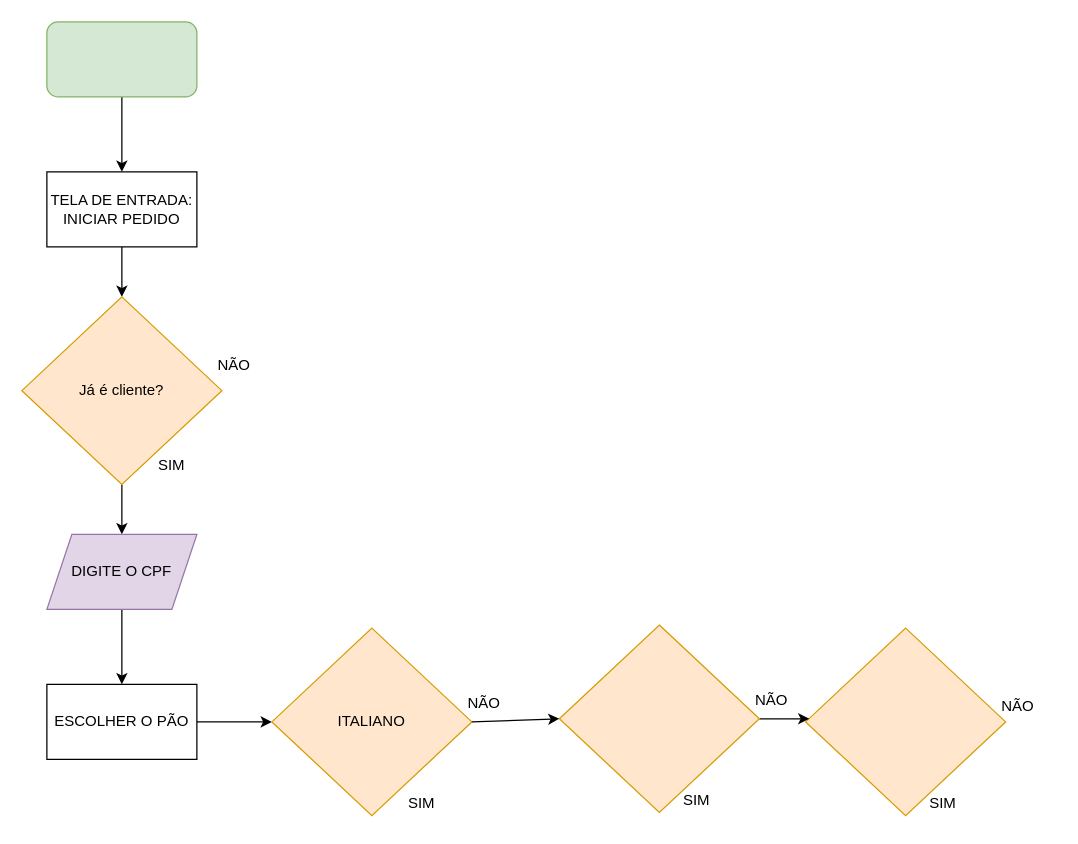
This 1078x844 diagram has some shape labels left out. The centre of each missing label's shape, as x and y in pixels:
"BRIOCHE" goes at point (658, 718).
"INÍCIO" goes at point (121, 59).
"TRÊS QUEIJOS" goes at point (905, 721).
